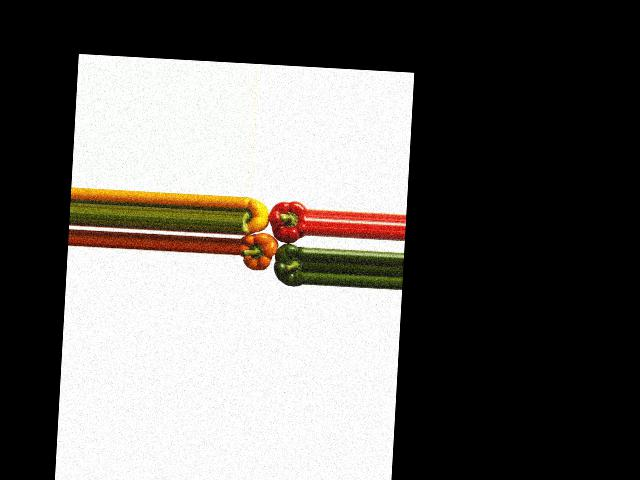bell_pepper: (240, 195, 272, 238)
